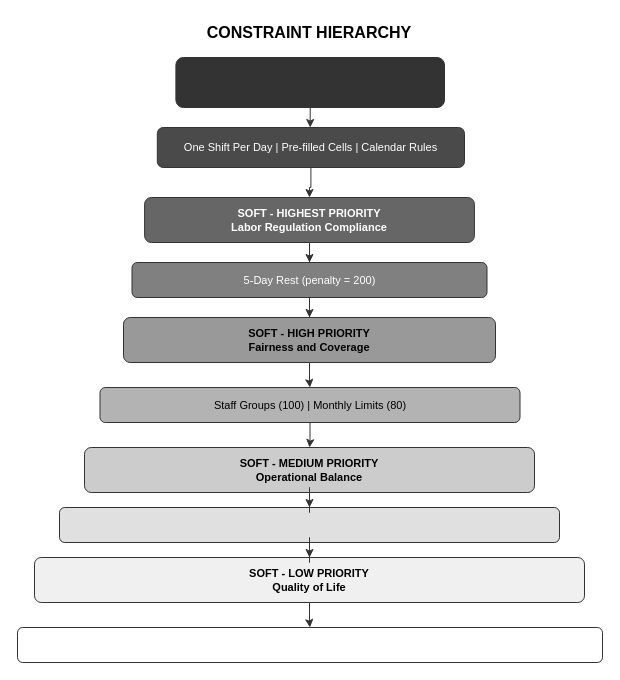
Some shapes in this 620 by 680 pixel diagram are drawn without their labels. The shapes that lost their labels are listed below. From the top down, each one's centre as x and y in pixels, then its label:
At (x=309, y=82): "HARD CONSTRAINT Must be satisfied 100%".
At (x=309, y=524): "Staff Type (60) | Daily Limits (50)".
At (x=309, y=644): "Adjacent Conflict (30)".
